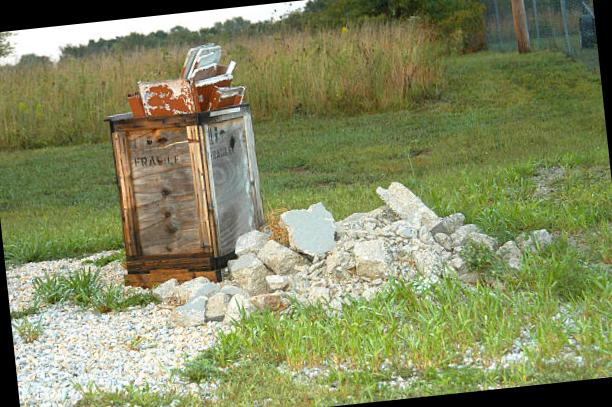trash: (220, 202, 361, 313), (330, 188, 476, 292), (99, 50, 253, 128), (130, 268, 248, 342)
trash_can_overflow: (48, 20, 374, 342)
